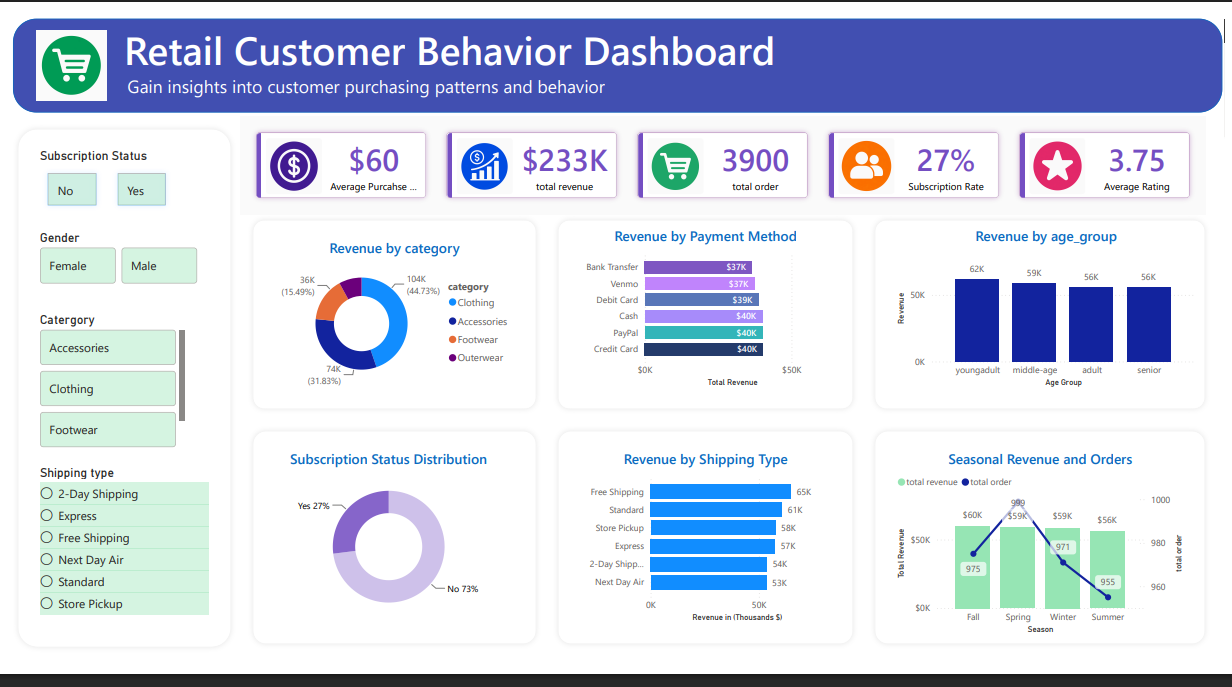

The dashboard page shown, as its layout file describes it:
{"tool":"powerbi","page":{"name":"Page 1","canvas":[1650,870],"ordinal":0},"visuals":[{"type":"cardVisual","fields":{"Data":["public customer_shopping.Average Purcahse Amount","public customer_shopping.total revenue","public customer_shopping.total order","public customer_shopping.Subscription Rate","public customer_shopping.Average Review Rating"]},"box":[304,128,1328,144],"z":0},{"type":"shape","box":[0,0,1648,128],"z":1000},{"type":"textbox","box":[0,0,1568,192],"z":2000},{"type":"shape","box":[320,266.7,400,272],"z":3000},{"type":"shape","box":[320,554.7,400,304],"z":4000},{"type":"donutChart","title":" Subscription Status Distribution","fields":{"Y":["CountNonNull(public customer_shopping.customer_id)"],"Category":["public customer_shopping.subscription_status"]},"box":[352,586.7,320,240],"z":5000},{"type":"shape","box":[736,266.7,416,272],"z":6000},{"type":"shape","box":[1168,266.7,464,272],"z":7000},{"type":"donutChart","title":"Revenue by category","fields":{"Category":["public customer_shopping.category"],"Y":["Sum(public customer_shopping.purchase_amount)"]},"box":[352,298.7,336,208],"z":8000},{"type":"clusteredBarChart","title":"Revenue by Payment Method","fields":{"Category":["public customer_shopping.payment_method"],"Y":["public customer_shopping.total revenue"]},"box":[768,282.7,352,224],"z":9000},{"type":"shape","box":[0,144,304,720],"z":10000},{"type":"advancedSlicerVisual","title":"Gender","fields":{"Values":["public customer_shopping.gender"]},"box":[32,288,224,80],"z":11000},{"type":"advancedSlicerVisual","title":"Catergory","fields":{"Values":["public customer_shopping.category"]},"box":[32,400,208,192],"z":12000},{"type":"listSlicer","title":"Shipping type","fields":{"Values":["public customer_shopping.shipping_type"]},"box":[32,608,240,224],"z":13000},{"type":"advancedSlicerVisual","title":"Subscription Status","fields":{"Values":["public customer_shopping.subscription_status"]},"box":[32,176,192,96],"z":14000},{"type":"clusteredColumnChart","title":"Revenue by age_group","fields":{"Category":["public customer_shopping.age_group"],"Y":["Sum(public customer_shopping.purchase_amount)"]},"box":[1200,282.7,416,224],"z":15000},{"type":"shape","box":[736,554.7,416,304],"z":16000},{"type":"clusteredBarChart","title":"Revenue by Shipping Type","fields":{"Y":["Sum(public customer_shopping.purchase_frequency_days)"],"Category":["public customer_shopping.shipping_type"]},"box":[768,586.7,352,240],"z":17000},{"type":"shape","box":[1168,554.7,464,304],"z":18000},{"type":"lineStackedColumnComboChart","title":"Seasonal Revenue and Orders","fields":{"Y":["public customer_shopping.total revenue"],"Y2":["public customer_shopping.total order"],"Category":["public customer_shopping.season"]},"box":[1200,586.7,400,256],"z":19000},{"type":"image","box":[16,16,128,96],"z":20000}]}

Visuals, with their boxes on the page's 1650x870 design canvas (x1, y1, x2, y2). These are canvas units, not pixel positions in the 1232x687 screenshot, which may show the page scaled, cropped or inside an application window:
cardVisual - public customer_shopping.Average Purcahse Amount x public customer_shopping.total revenue: BBox(304, 128, 1632, 272)
shape: BBox(0, 0, 1648, 128)
textbox: BBox(0, 0, 1568, 192)
shape: BBox(320, 267, 720, 539)
shape: BBox(320, 555, 720, 859)
" Subscription Status Distribution" donutChart: BBox(352, 587, 672, 827)
shape: BBox(736, 267, 1152, 539)
shape: BBox(1168, 267, 1632, 539)
"Revenue by category" donutChart: BBox(352, 299, 688, 507)
"Revenue by Payment Method" clusteredBarChart: BBox(768, 283, 1120, 507)
shape: BBox(0, 144, 304, 864)
"Gender" advancedSlicerVisual: BBox(32, 288, 256, 368)
"Catergory" advancedSlicerVisual: BBox(32, 400, 240, 592)
"Shipping type" listSlicer: BBox(32, 608, 272, 832)
"Subscription Status" advancedSlicerVisual: BBox(32, 176, 224, 272)
"Revenue by age_group" clusteredColumnChart: BBox(1200, 283, 1616, 507)
shape: BBox(736, 555, 1152, 859)
"Revenue by Shipping Type" clusteredBarChart: BBox(768, 587, 1120, 827)
shape: BBox(1168, 555, 1632, 859)
"Seasonal Revenue and Orders" lineStackedColumnComboChart: BBox(1200, 587, 1600, 843)
image: BBox(16, 16, 144, 112)
